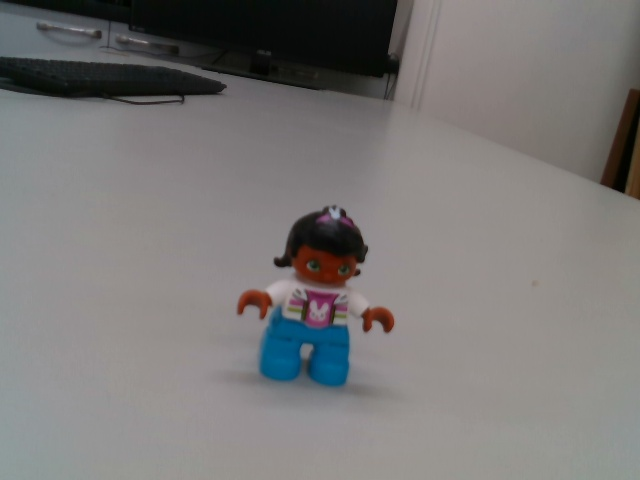people: (236, 202, 400, 389)
